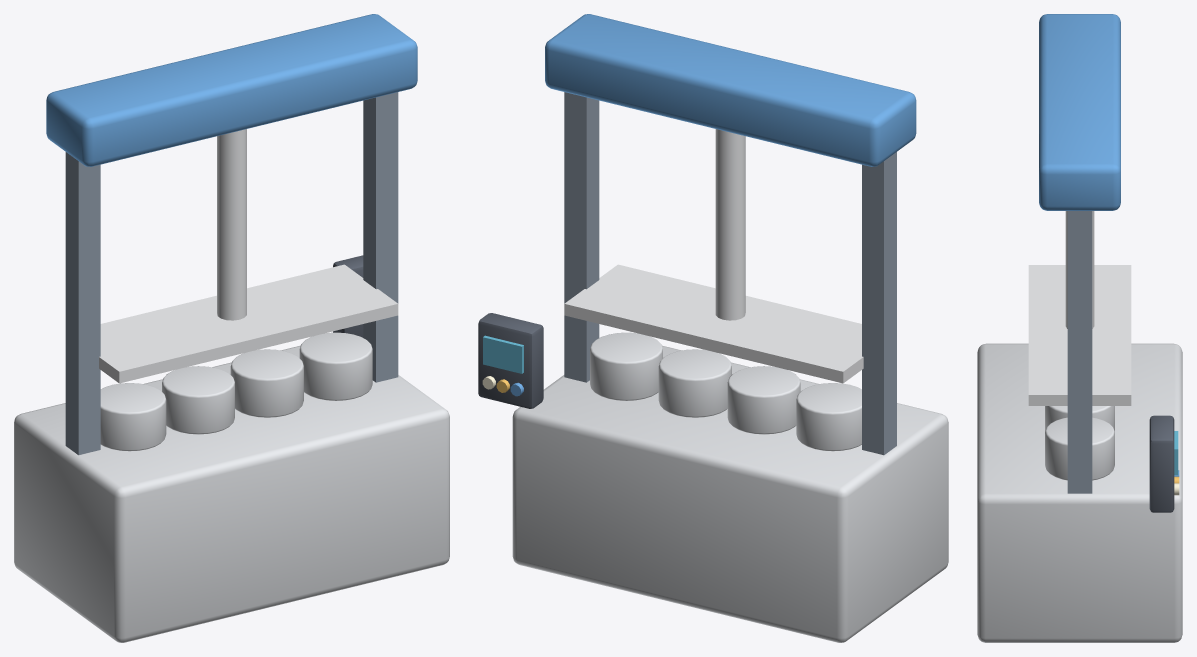
File: Prasa.fbx
The picture shows the model from 3 angles, left to right: view 1: azimuth 30°, elevation 25°; view 2: azimuth 150°, elevation 25°; view 3: azimuth 270°, elevation 25°; orthographic projection. The views are drawn at different scales.
Visible parts, largest first — view 1: Maszyna_Prasa_Korpus, Maszyna_Prasa_Tlok; view 2: Maszyna_Prasa_Korpus, Maszyna_Prasa_Tlok; view 3: Maszyna_Prasa_Korpus, Maszyna_Prasa_Tlok.
Part boxes in pixels (x1=…): Maszyna_Prasa_Korpus: x1=14, y1=14, x2=449, y2=642; Maszyna_Prasa_Tlok: x1=99, y1=129, x2=398, y2=383; Maszyna_Prasa_Korpus: x1=478, y1=14, x2=948, y2=642; Maszyna_Prasa_Tlok: x1=564, y1=129, x2=863, y2=383; Maszyna_Prasa_Korpus: x1=977, y1=14, x2=1182, y2=642; Maszyna_Prasa_Tlok: x1=1028, y1=211, x2=1131, y2=405.
Size of the model in its own units: 2 by 2.74 by 1.
